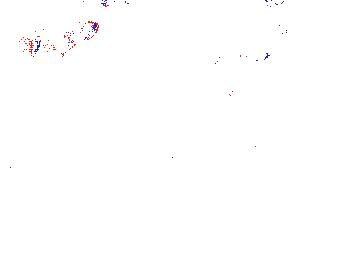X-ray fish: (240, 133, 267, 157)
red belly glassfish: (259, 18, 289, 36)
redtail glassfish: (25, 19, 99, 58), (210, 47, 271, 68)
